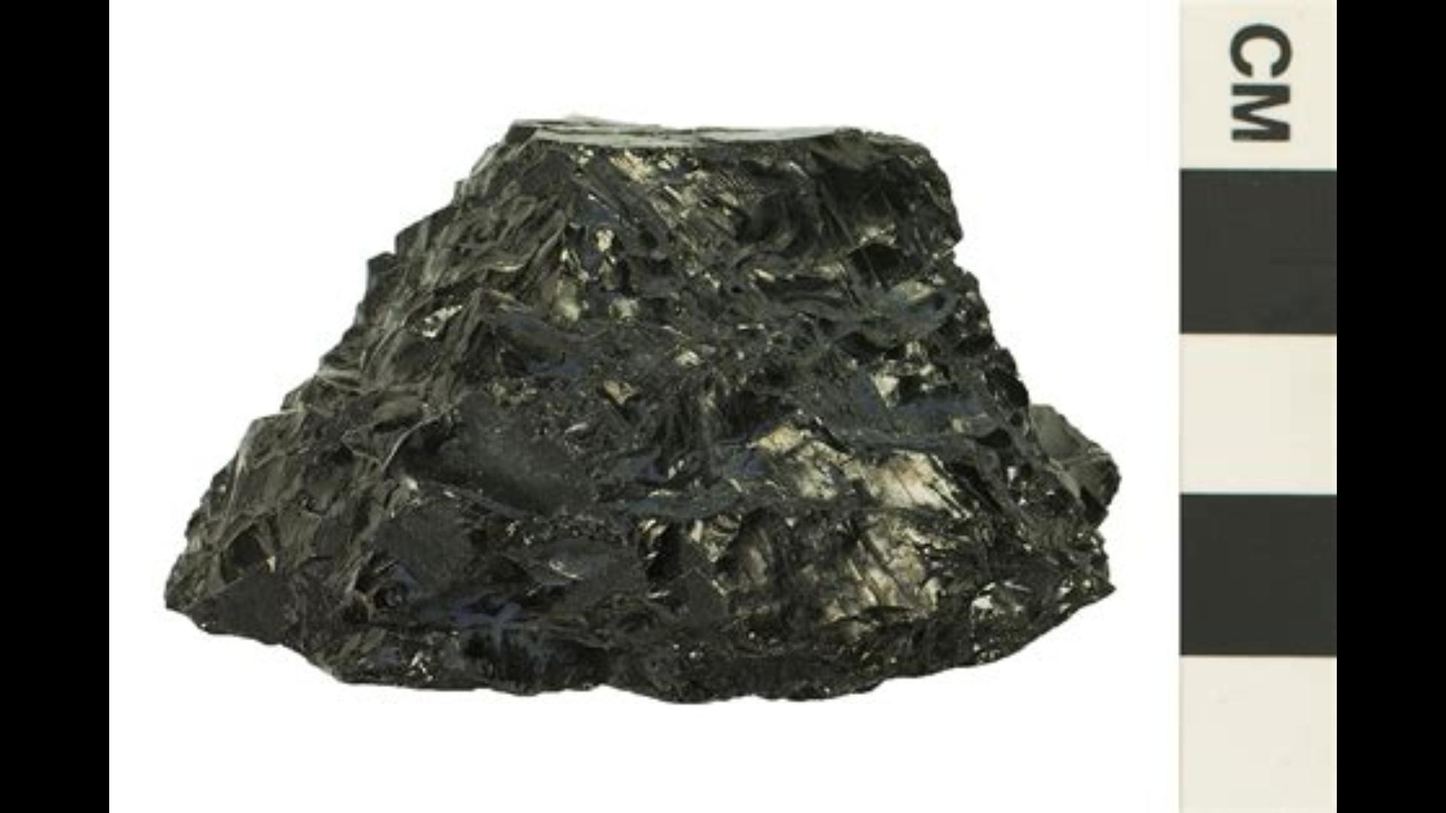rock: (166, 122, 1114, 696)
